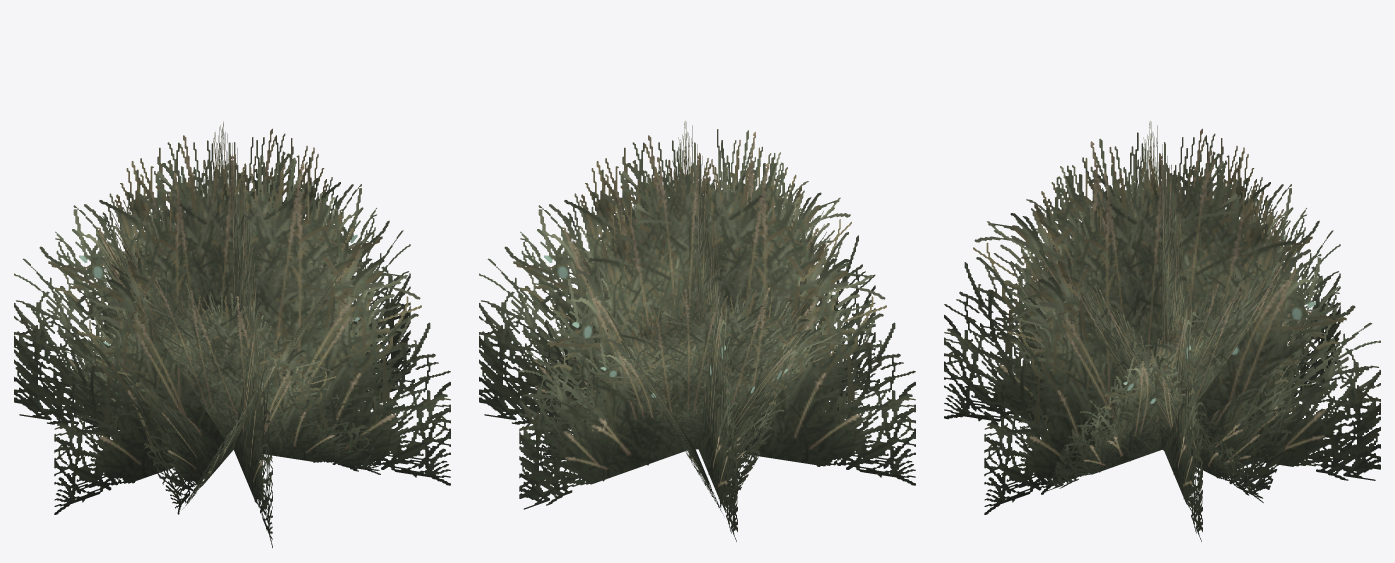
The model's file is grass_bushy.obj.
3 views of the same model, side by side, from view 1: azimuth 30°, elevation 25°; view 2: azimuth 150°, elevation 25°; view 3: azimuth 270°, elevation 25° (orthographic).
Visible parts, largest first — view 1: Third_Crossed_Card, First_Crossed_Card, Right_Leaning_Card, Second_Crossed_Card, Front_Leaning_Card, Back_Leaning_Card, Left_Leaning_Card; view 2: First_Crossed_Card, Second_Crossed_Card, Front_Leaning_Card, Third_Crossed_Card, Right_Leaning_Card, Back_Leaning_Card, Left_Leaning_Card; view 3: Second_Crossed_Card, Third_Crossed_Card, Left_Leaning_Card, First_Crossed_Card, Back_Leaning_Card, Front_Leaning_Card, Right_Leaning_Card.
Part boxes in pixels (x1,y1,x2,y2): Third_Crossed_Card: (14, 135, 450, 485); First_Crossed_Card: (54, 128, 410, 514); Right_Leaning_Card: (63, 278, 380, 474); Second_Crossed_Card: (203, 121, 272, 547); Front_Leaning_Card: (97, 200, 223, 514); Back_Leaning_Card: (182, 238, 366, 509); Left_Leaning_Card: (84, 183, 401, 471); First_Crossed_Card: (479, 135, 915, 485); Second_Crossed_Card: (519, 129, 875, 509); Front_Leaning_Card: (543, 281, 860, 459); Third_Crossed_Card: (665, 121, 737, 541); Right_Leaning_Card: (719, 208, 830, 512); Back_Leaning_Card: (534, 176, 847, 461); Left_Leaning_Card: (565, 229, 723, 515); Second_Crossed_Card: (944, 132, 1380, 480); Third_Crossed_Card: (984, 128, 1340, 514); Left_Leaning_Card: (1045, 265, 1314, 491); First_Crossed_Card: (1130, 121, 1202, 541); Back_Leaning_Card: (1016, 256, 1263, 502); Front_Leaning_Card: (1198, 186, 1311, 498); Right_Leaning_Card: (1009, 187, 1128, 494).
Bounding box in the file's own units: 57.12 × 47 × 54.5.
Materials: 1 (1 with a texture image).
